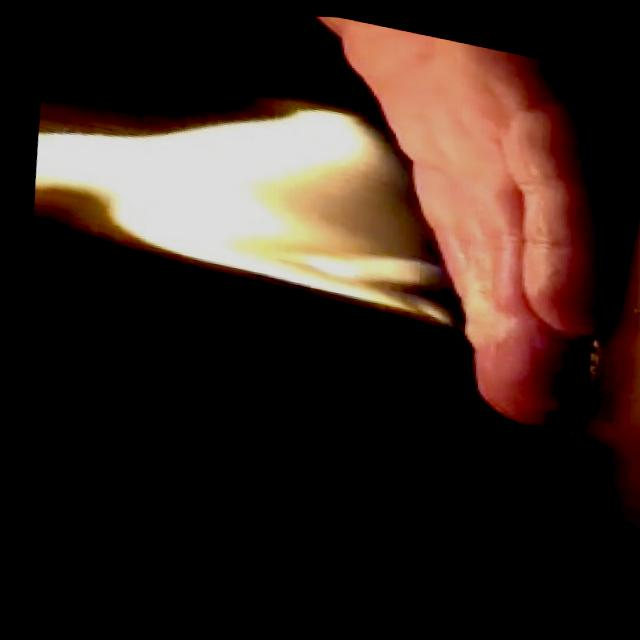Fire: (11, 45, 500, 336)
